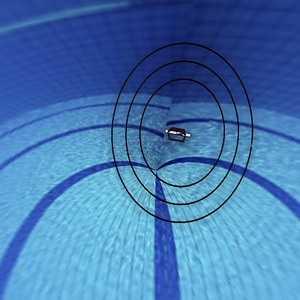circle: (98, 31, 272, 236)
submarine: (159, 118, 195, 154)
